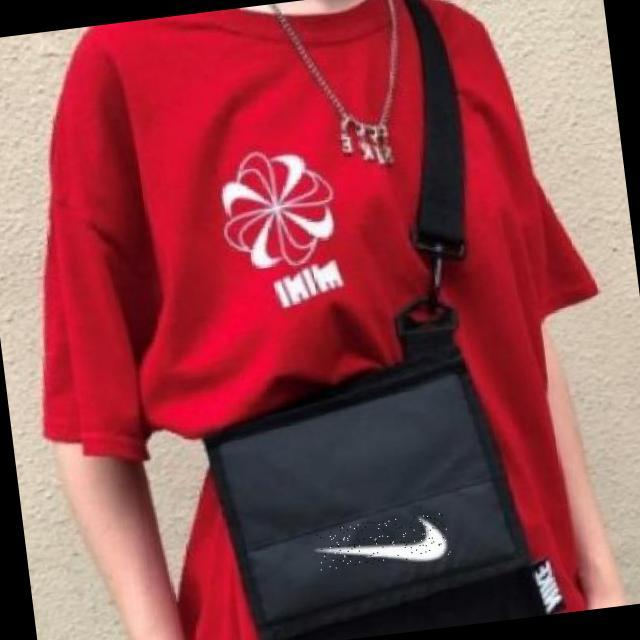Nike: (313, 512, 451, 571)
